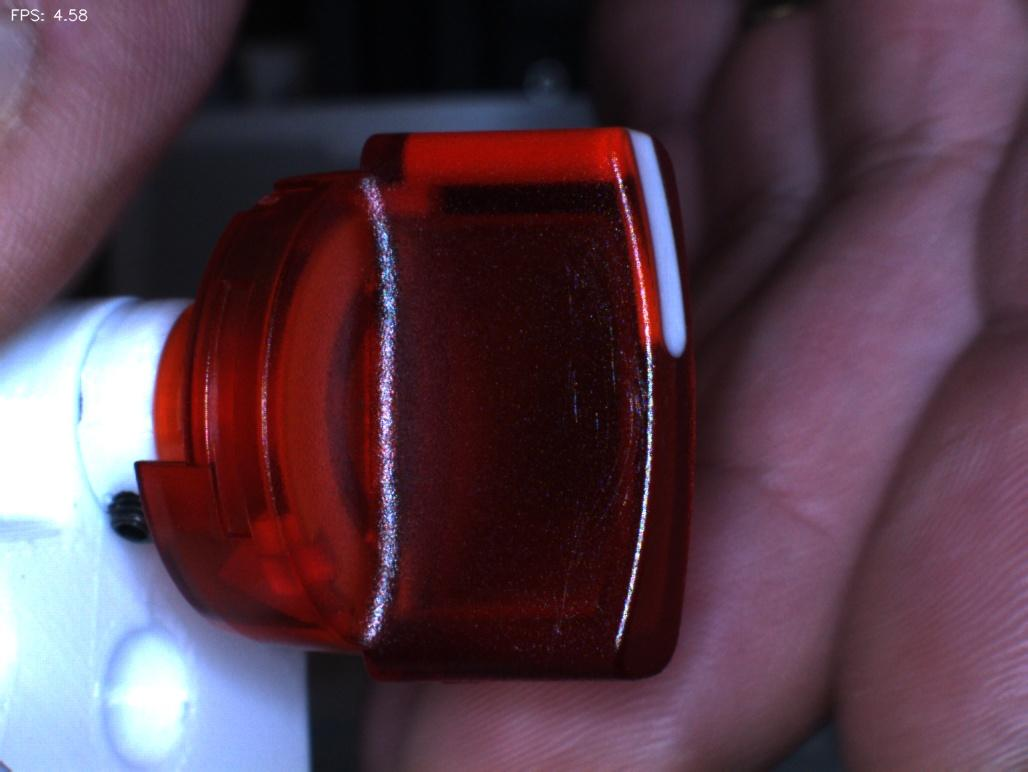Givrage: (551, 272, 652, 529)
